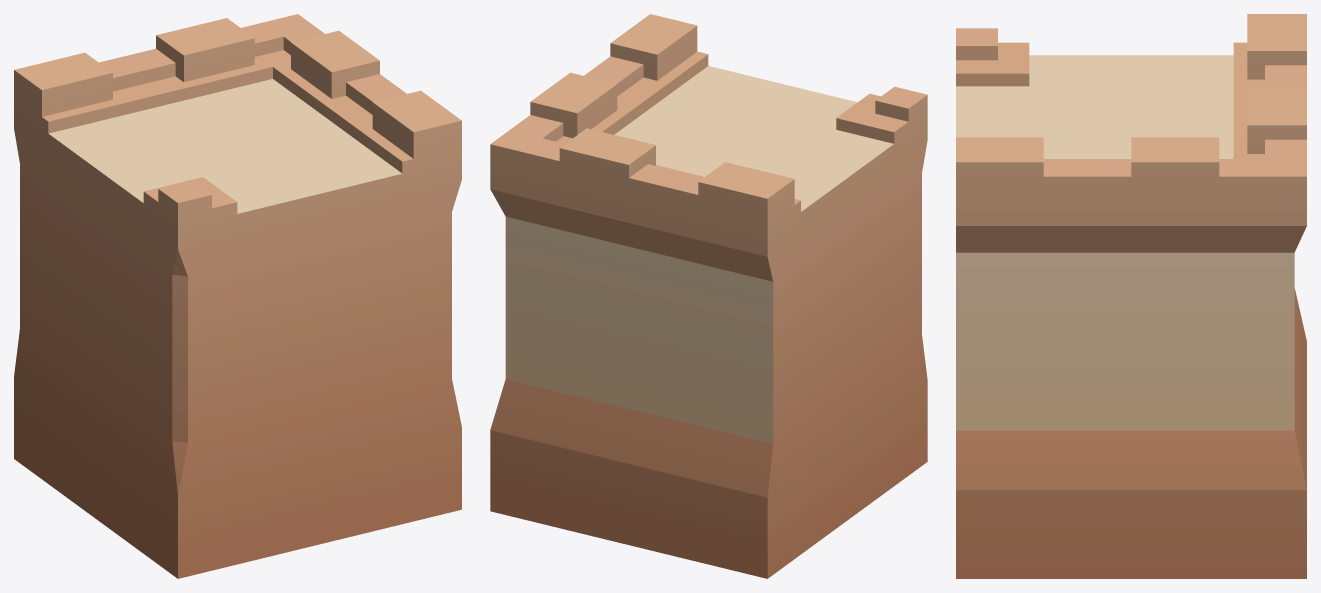
The model's file is kit_wall_corner.glb.
3 renders of one model, left to right at view 1: azimuth 30°, elevation 25°; view 2: azimuth 150°, elevation 25°; view 3: azimuth 270°, elevation 25°, orthographic. The views are drawn at different scales.
Visible parts, largest first — view 1: wall-corner; view 2: wall-corner; view 3: wall-corner.
Part boxes in pixels (box(x1,y1,x2,y2)): wall-corner: box(14, 14, 461, 578); wall-corner: box(490, 14, 927, 578); wall-corner: box(956, 14, 1306, 578).
Bounding box in the file's own units: 4.58 × 6 × 4.58.
Materials: 1 (1 with a texture image).
